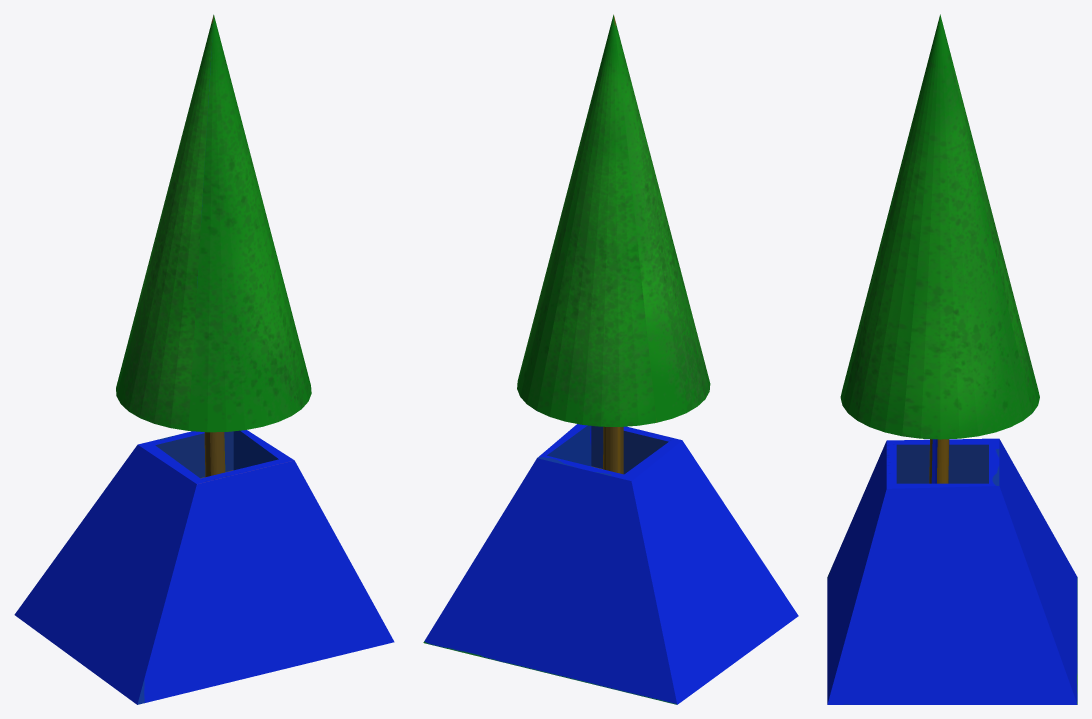
File: pottedplant.glb
3 renders of one model, left to right at view 1: azimuth 30°, elevation 25°; view 2: azimuth 150°, elevation 25°; view 3: azimuth 270°, elevation 25°, orthographic. The views are drawn at different scales.
Parts seen in each view (by area): view 1: Cube; view 2: Cube; view 3: Cube.
Boxes of the visible parts, left/top/right/bottom form: Cube: left=14, top=14, right=394, bottom=704; Cube: left=423, top=14, right=798, bottom=704; Cube: left=827, top=14, right=1077, bottom=704.
Size of the model in its own units: 3.03 by 6.95 by 2.51.
Materials: 1 (1 with a texture image).
